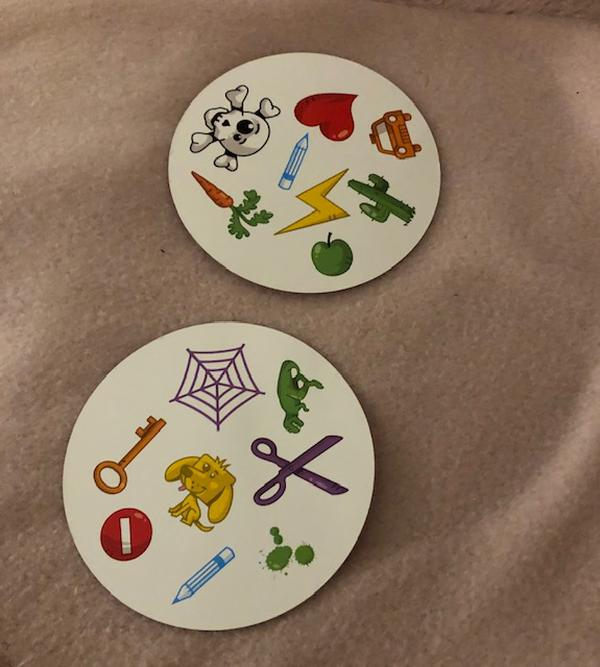cactus: (344, 168, 416, 228)
carotte: (184, 169, 275, 247)
chien: (163, 449, 237, 532)
ciseau: (249, 428, 347, 510)
cle: (92, 408, 170, 499)
coeur: (293, 89, 360, 144)
crayon: (169, 546, 234, 607), (275, 137, 311, 192)
dinosore: (269, 357, 325, 434)
eclair: (275, 164, 355, 234)
pomme: (305, 230, 356, 281)
sens_interdit: (98, 505, 153, 564)
tache: (263, 523, 312, 577)
tete_mort: (189, 81, 284, 176)
toile: (164, 341, 269, 434)
voiture: (365, 103, 421, 164)
